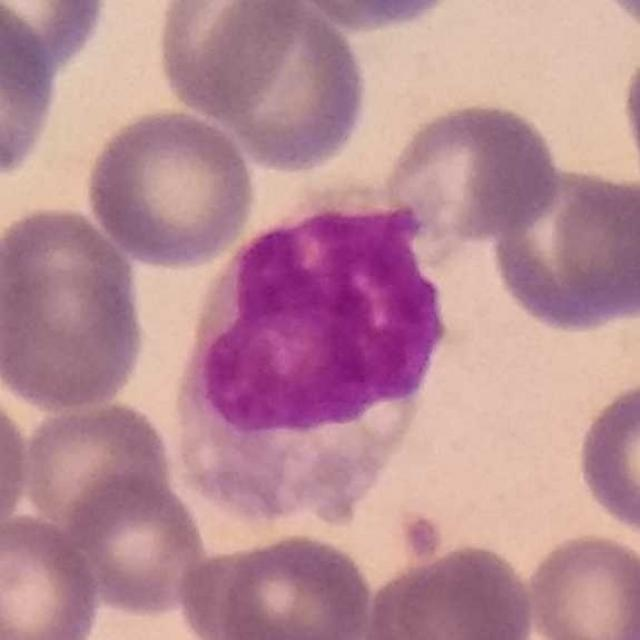mono: (178, 188, 454, 530)
